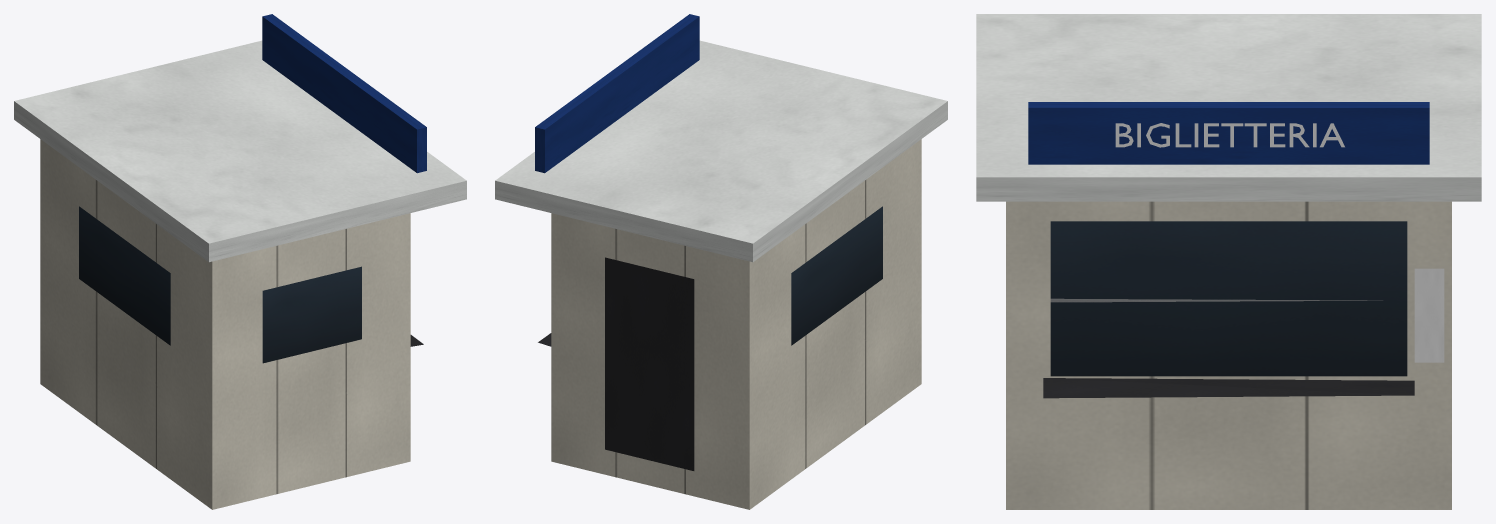
File: SM_Morin_Biglietteria_LOD1.fbx
3 views of the same model, side by side, from view 1: azimuth 30°, elevation 25°; view 2: azimuth 150°, elevation 25°; view 3: azimuth 270°, elevation 25° (orthographic). The views are drawn at different scales.
Parts seen in each view (by area): view 1: SM_Morin_Biglietteria_LOD1; view 2: SM_Morin_Biglietteria_LOD1; view 3: SM_Morin_Biglietteria_LOD1.
Part boxes in pixels (left/top/right/bottom): SM_Morin_Biglietteria_LOD1: left=14, top=14, right=466, bottom=509; SM_Morin_Biglietteria_LOD1: left=495, top=14, right=947, bottom=509; SM_Morin_Biglietteria_LOD1: left=976, top=14, right=1481, bottom=509.
Bounding box in the file's own units: 260 × 340 × 310.
Materials: 1 (1 with a texture image).
